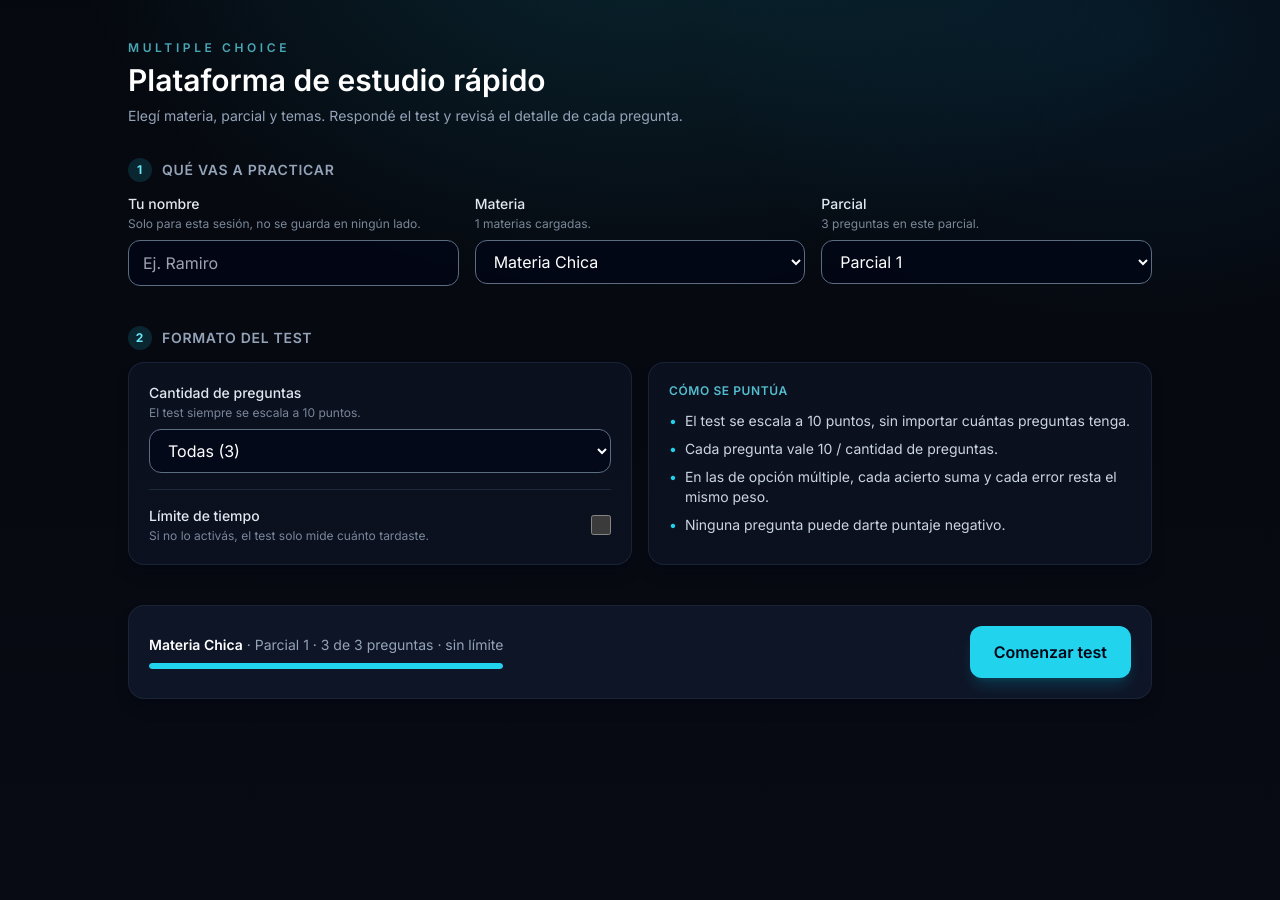
Scenario: TestApp · durante el test › usa radios cuando hay una sola correcta y checkboxes cuando hay varias
Click the button "Comenzar test". click: point(1050, 652)
box: [970, 626, 1131, 678]
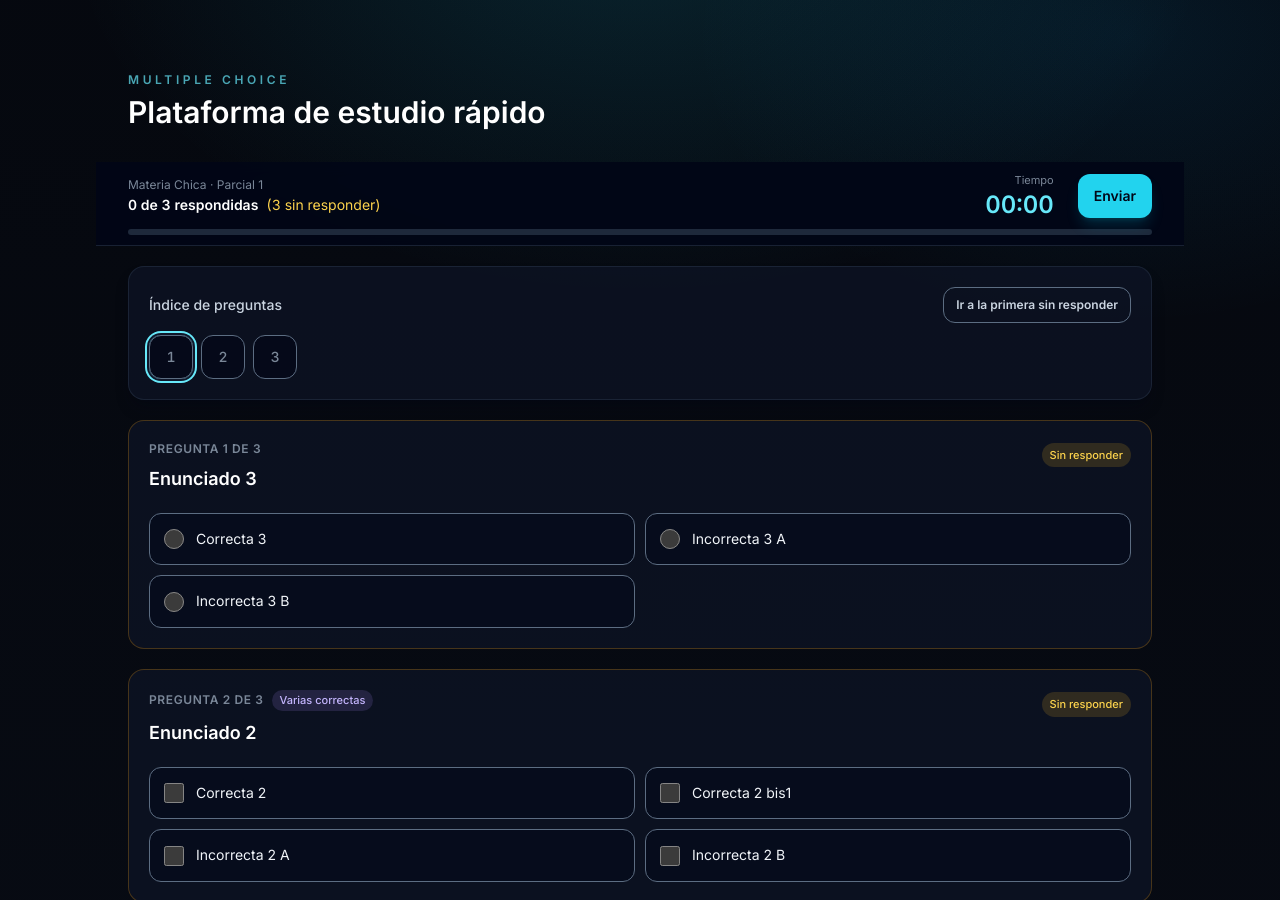
Now the number of checkboxes is 4, box [164, 783, 184, 803]; [660, 783, 680, 803]; [164, 846, 184, 866]; [660, 846, 680, 866]
Now the text "Varias correctas" is shown, box [272, 690, 373, 710]
